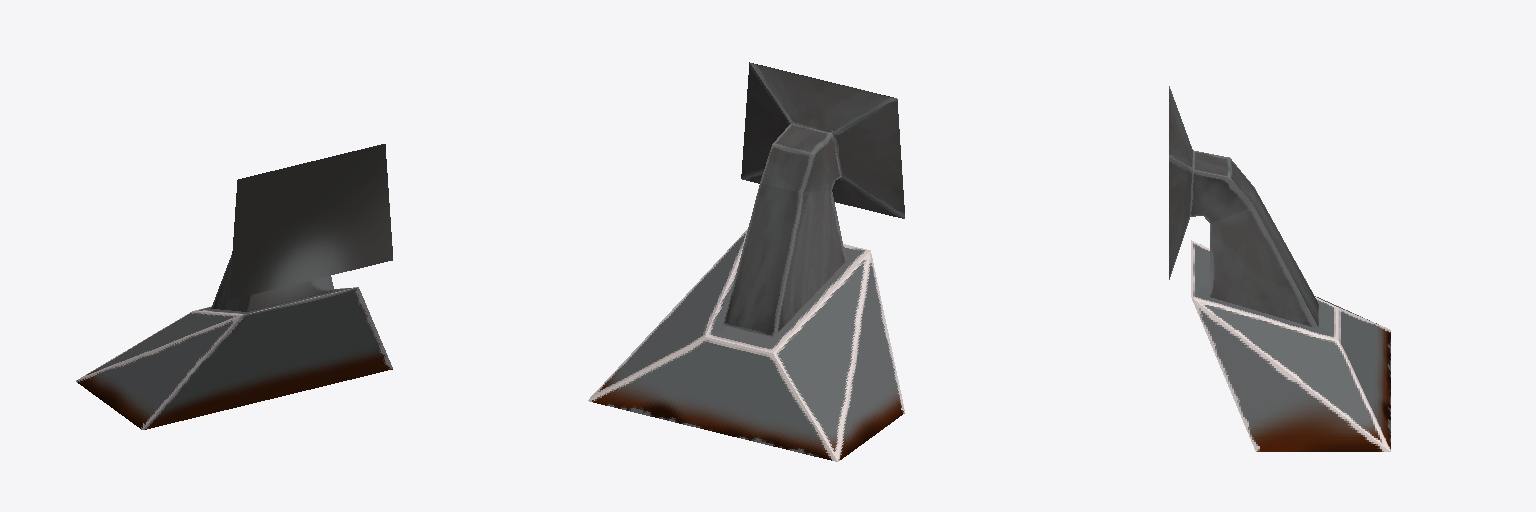
The picture shows the model from 3 angles: view 1: azimuth 30°, elevation 25°; view 2: azimuth 150°, elevation 25°; view 3: azimuth 270°, elevation 25°; orthographic projection.
Visible parts, largest first — view 1: Fuss_Mesh.000, Bein_Mesh.001; view 2: Fuss_Mesh.000, Bein_Mesh.001; view 3: Fuss_Mesh.000, Bein_Mesh.001.
Boxes of the visible parts, <box> form: Fuss_Mesh.000: <box>76,287,392,429</box>; Bein_Mesh.001: <box>211,144,392,311</box>; Fuss_Mesh.000: <box>588,229,904,461</box>; Bein_Mesh.001: <box>723,62,904,336</box>; Fuss_Mesh.000: <box>1191,240,1390,451</box>; Bein_Mesh.001: <box>1169,86,1318,328</box>.
Size of the model in its own units: 4.29 by 4.42 by 3.29.
2 materials, 1 textured.